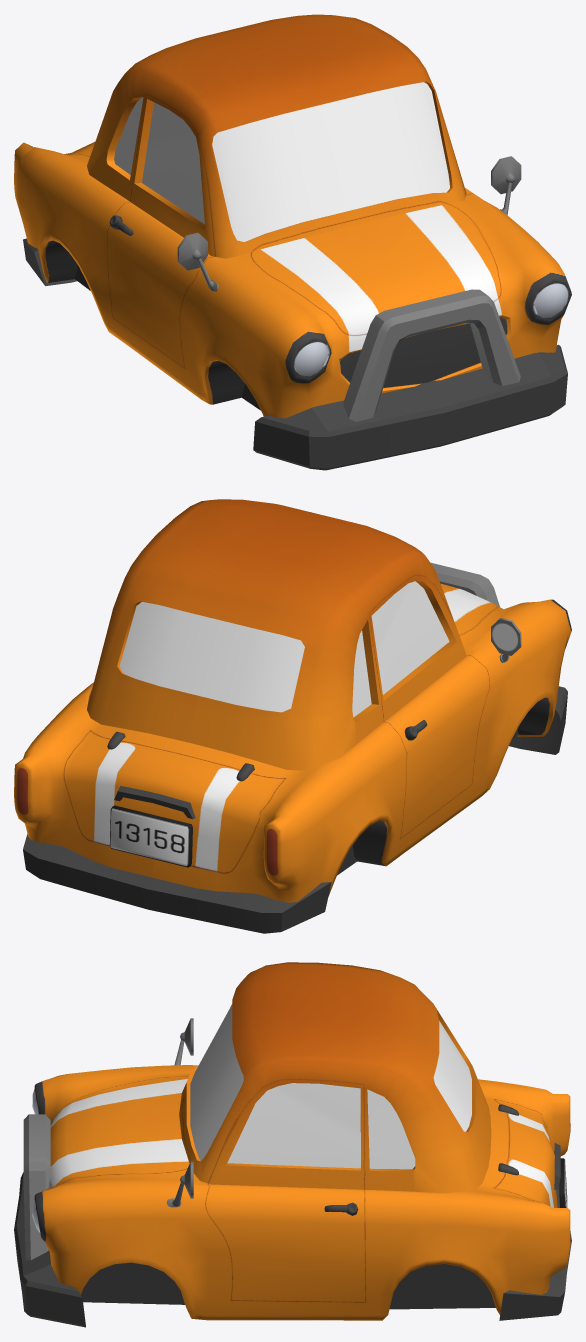
The model's file is Car_Style2.fbx.
3 views of the same model, one above another, from view 1: azimuth 30°, elevation 25°; view 2: azimuth 150°, elevation 25°; view 3: azimuth 270°, elevation 25° (orthographic). The views are drawn at different scales.
Visible parts, largest first — view 1: Car_Ready_Style2; view 2: Car_Ready_Style2; view 3: Car_Ready_Style2.
Part boxes in pixels (x1,y1,x2,y2): Car_Ready_Style2: [14, 14, 571, 470]; Car_Ready_Style2: [14, 499, 571, 933]; Car_Ready_Style2: [14, 962, 571, 1327].
Size of the model in its own units: 0.5685 by 0.4425 by 0.8581.
Materials: 1 (1 with a texture image).
